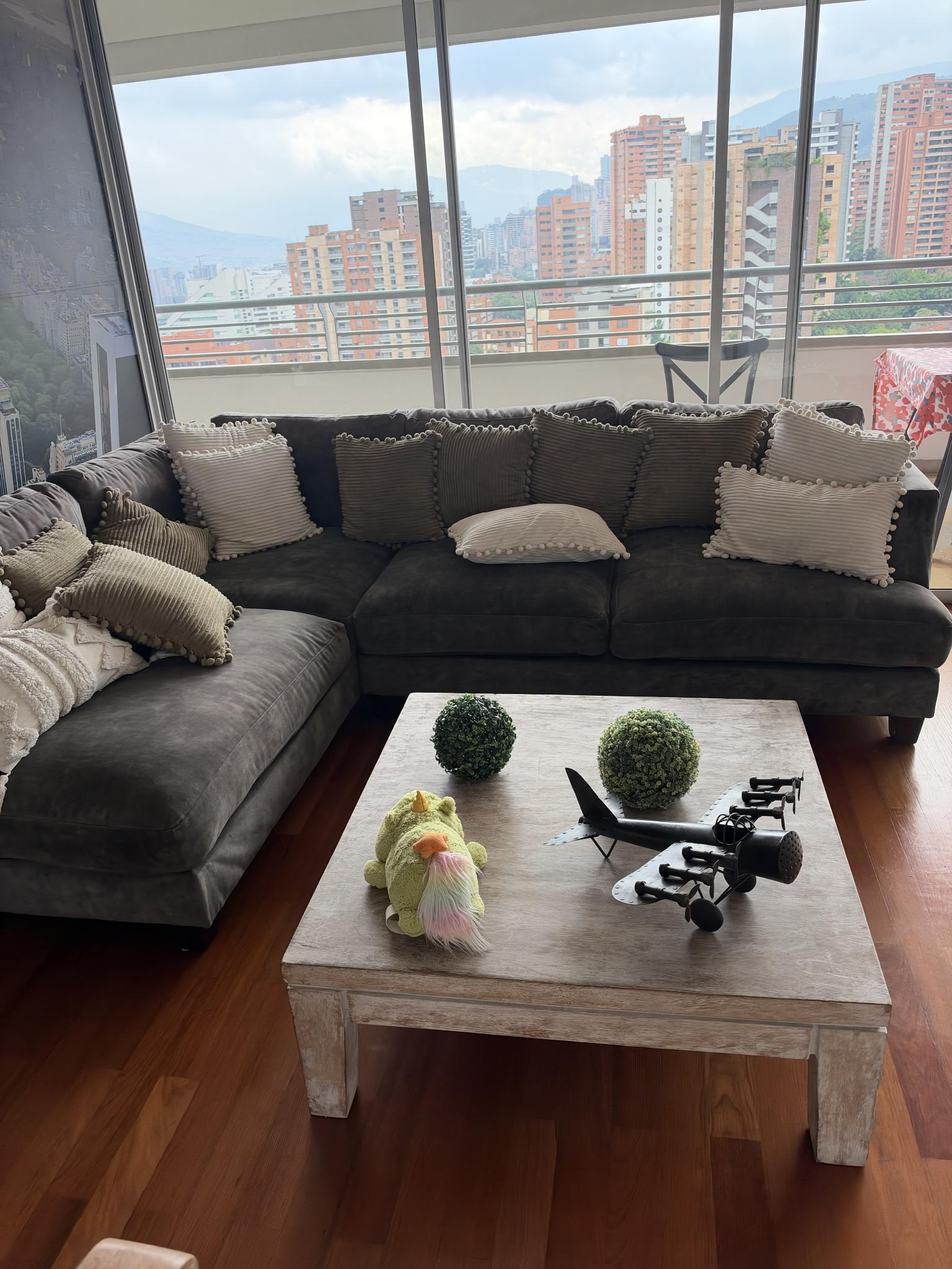peluche_martin: (363, 789, 492, 957)
